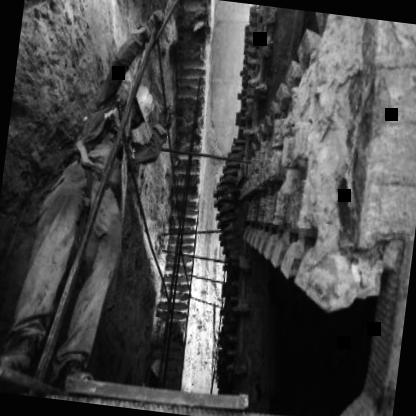helmet: (127, 81, 160, 132)
